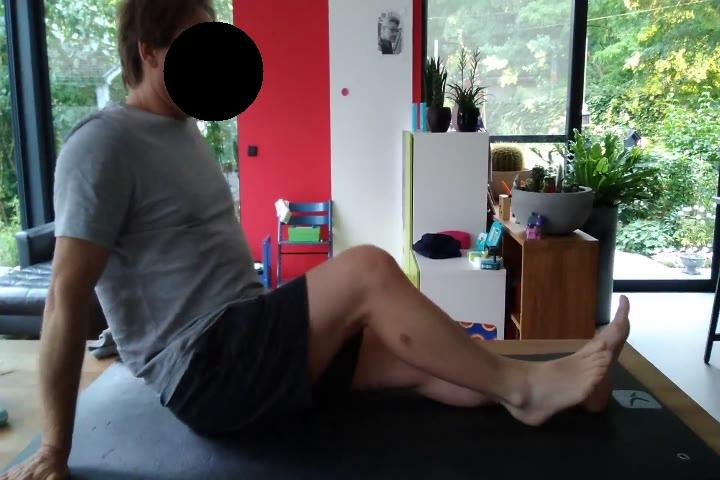lower_body: (168, 243, 633, 435)
